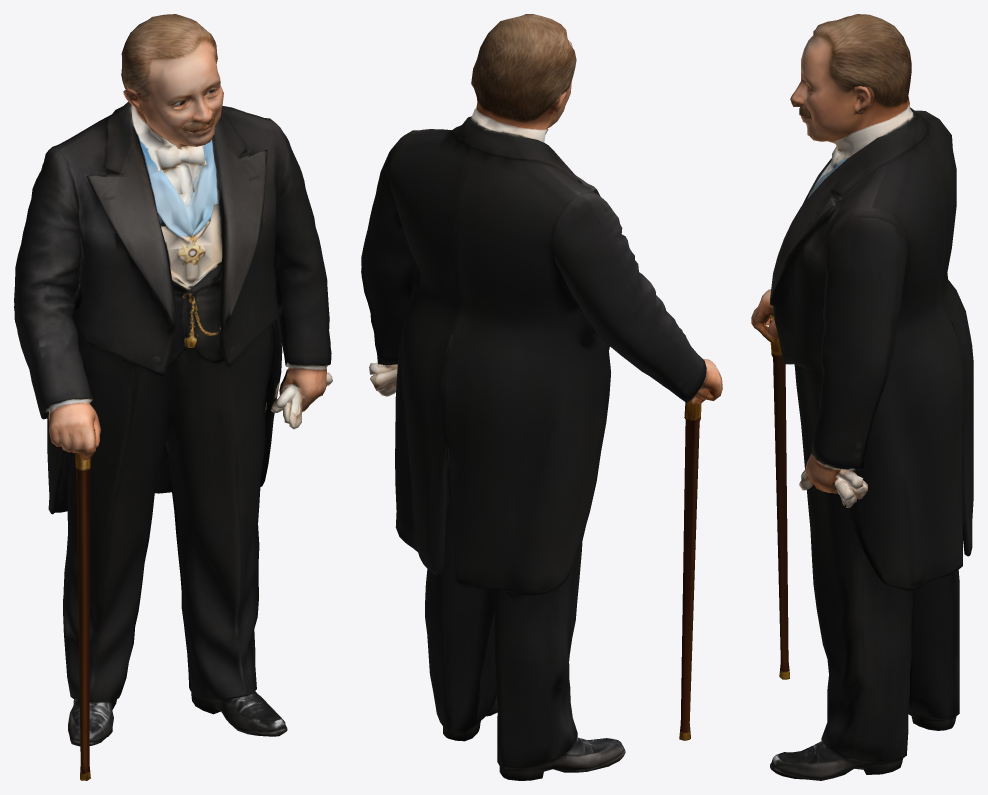
The model's file is Simon I. Patiño 3d model.glb.
The picture shows the model from 3 angles, left to right: view 1: azimuth 30°, elevation 25°; view 2: azimuth 150°, elevation 25°; view 3: azimuth 270°, elevation 25°; orthographic projection. The views are drawn at different scales.
Visible parts, largest first — view 1: tripo_node_24dfb28a-1451-4274-bd38-6b64f6163fa4; view 2: tripo_node_24dfb28a-1451-4274-bd38-6b64f6163fa4; view 3: tripo_node_24dfb28a-1451-4274-bd38-6b64f6163fa4.
Boxes of the visible parts, x1=… form: tripo_node_24dfb28a-1451-4274-bd38-6b64f6163fa4: x1=14, y1=14, x2=332, y2=780; tripo_node_24dfb28a-1451-4274-bd38-6b64f6163fa4: x1=361, y1=14, x2=722, y2=780; tripo_node_24dfb28a-1451-4274-bd38-6b64f6163fa4: x1=751, y1=14, x2=973, y2=780.
Size of the model in its own units: 0.4527 by 0.9761 by 0.2732.
Materials: 1 (1 with a texture image).
